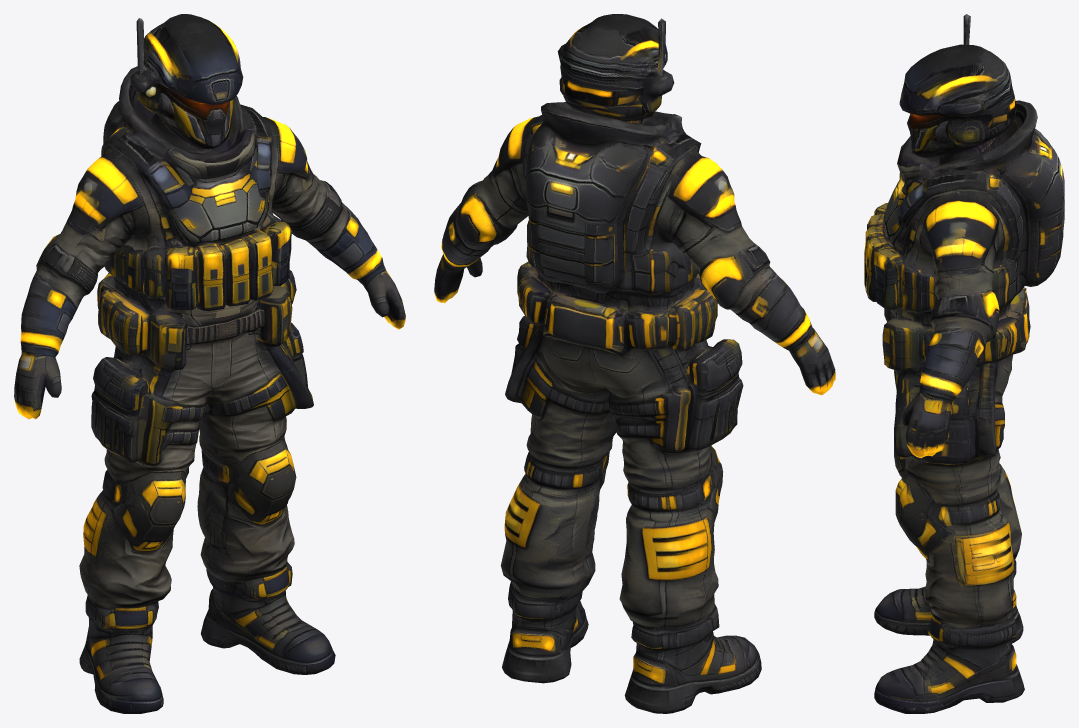
File: obsidianSentinelPlayerSalvager.glb
3 renders of one model, left to right at view 1: azimuth 30°, elevation 25°; view 2: azimuth 150°, elevation 25°; view 3: azimuth 270°, elevation 25°, orthographic. The views are drawn at different scales.
Parts seen in each view (by area): view 1: Mesh_0.001; view 2: Mesh_0.001; view 3: Mesh_0.001.
Part boxes in pixels (x1,y1,x2,y2): Mesh_0.001: (14, 14, 405, 713); Mesh_0.001: (434, 14, 835, 713); Mesh_0.001: (864, 14, 1064, 713).
Size of the model in its own units: 1.1 by 1.8 by 0.5212.
1 material, 1 textured.
